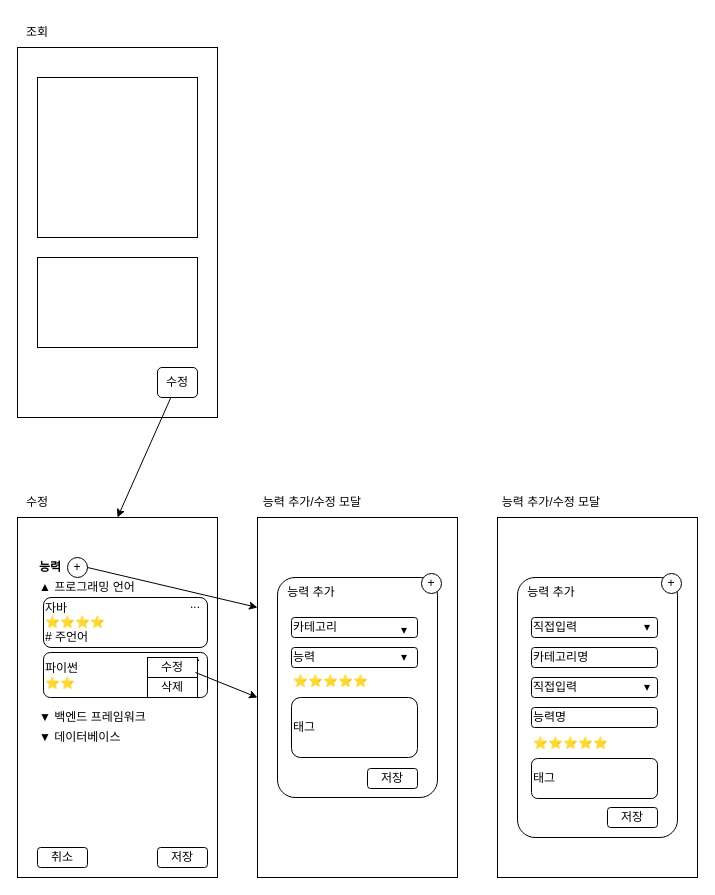
Some shapes in this 715 by 895 pixel diagram are drawn without their labels. The centre of each missing label's shape, as x and y in pixels:
"능력치 차트" belongs at (117,157).
"스킬 목록" belongs at (117,302).
